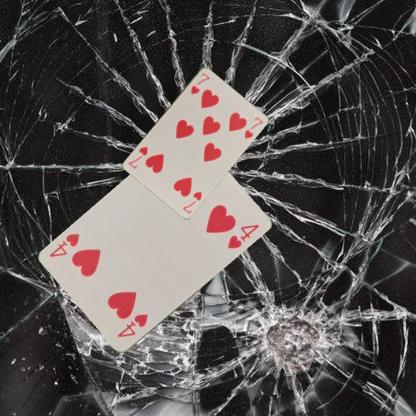4h: (114, 310, 149, 339)
7h: (180, 188, 204, 215), (188, 70, 211, 95)
